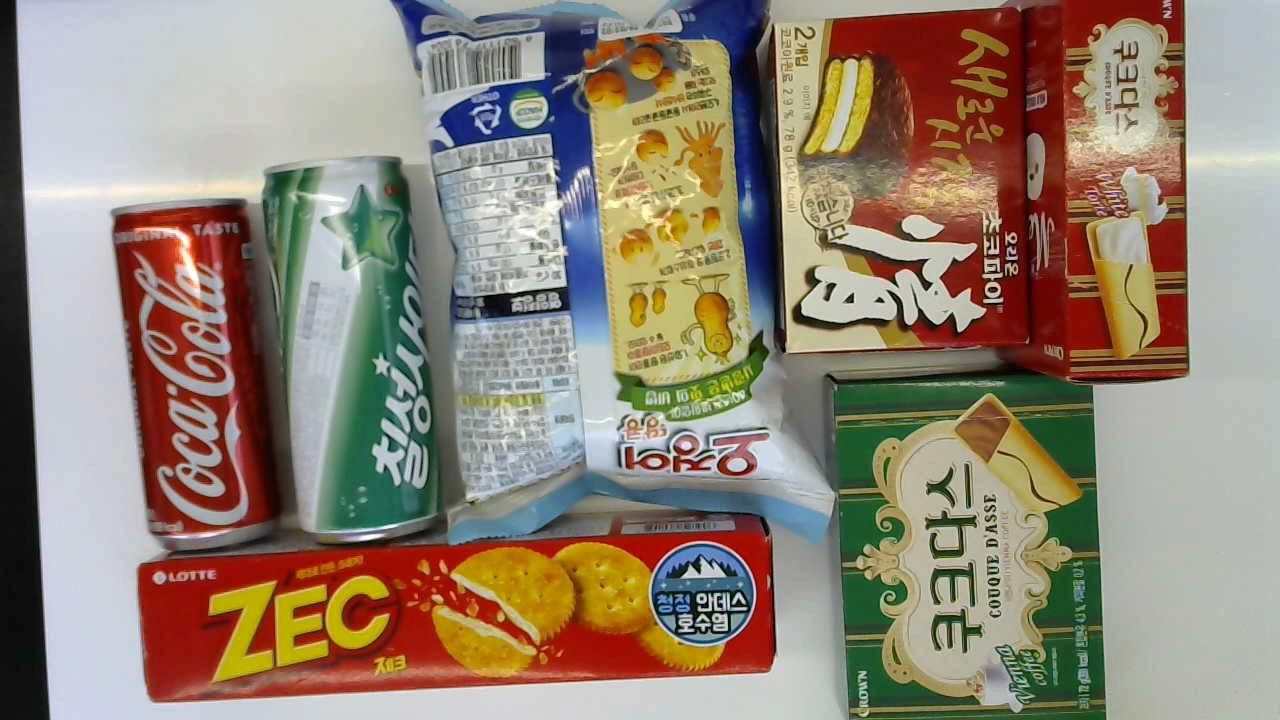chocopie: (768, 6, 1028, 356)
cidar: (260, 152, 440, 540)
coke: (111, 195, 286, 553)
couque_coffee: (825, 365, 1108, 718)
couque_white: (1003, 0, 1191, 385)
squid_peanut: (392, 0, 834, 527)
zec: (138, 507, 776, 699)
